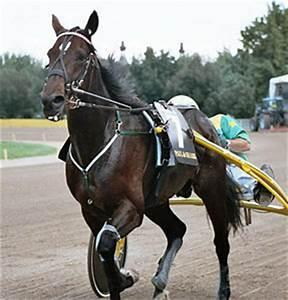horse: (39, 9, 251, 299)
